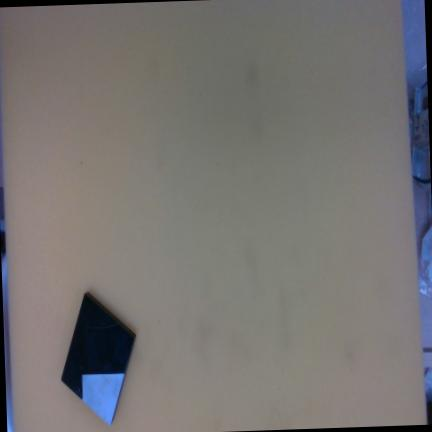tile: (52, 290, 143, 427)
